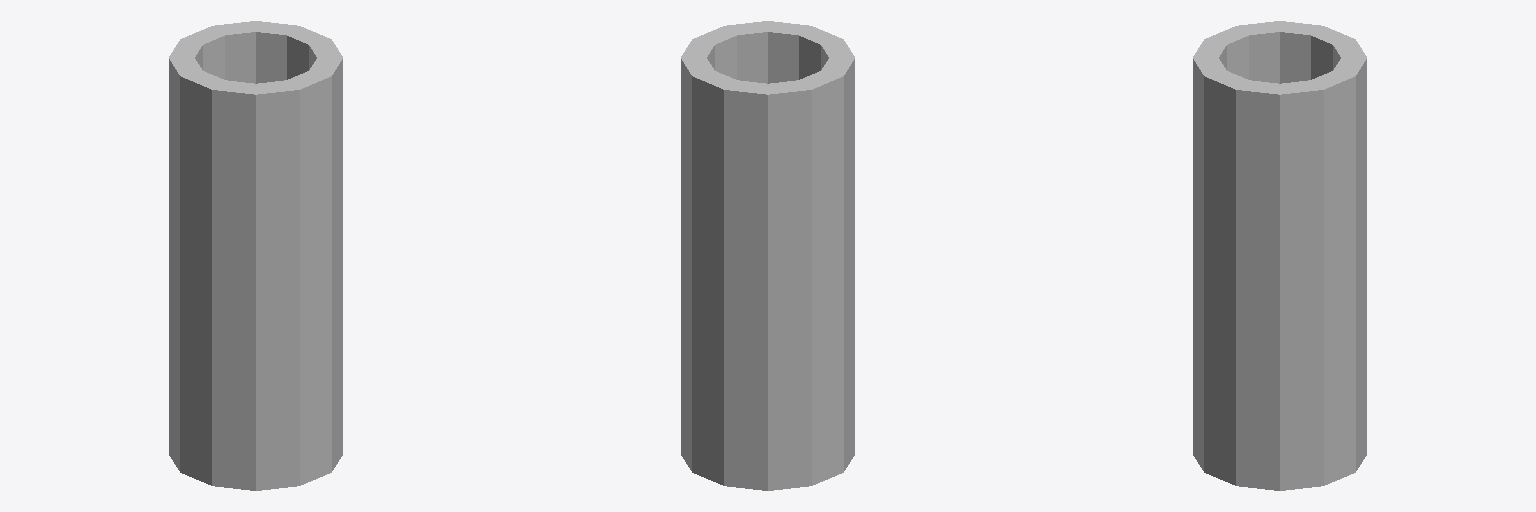
The model's file is Model_Pipe_5.obj.
3 renders of one model, left to right at view 1: azimuth 30°, elevation 25°; view 2: azimuth 150°, elevation 25°; view 3: azimuth 270°, elevation 25°, orthographic.
Parts seen in each view (by area): view 1: Pipe5; view 2: Pipe5; view 3: Pipe5.
Part boxes in pixels (x1,y1,x2,y2): Pipe5: (169,21,342,490); Pipe5: (681,21,854,490); Pipe5: (1193,21,1366,490).
Bounding box in the file's own units: 2.57 × 6.42 × 2.57.